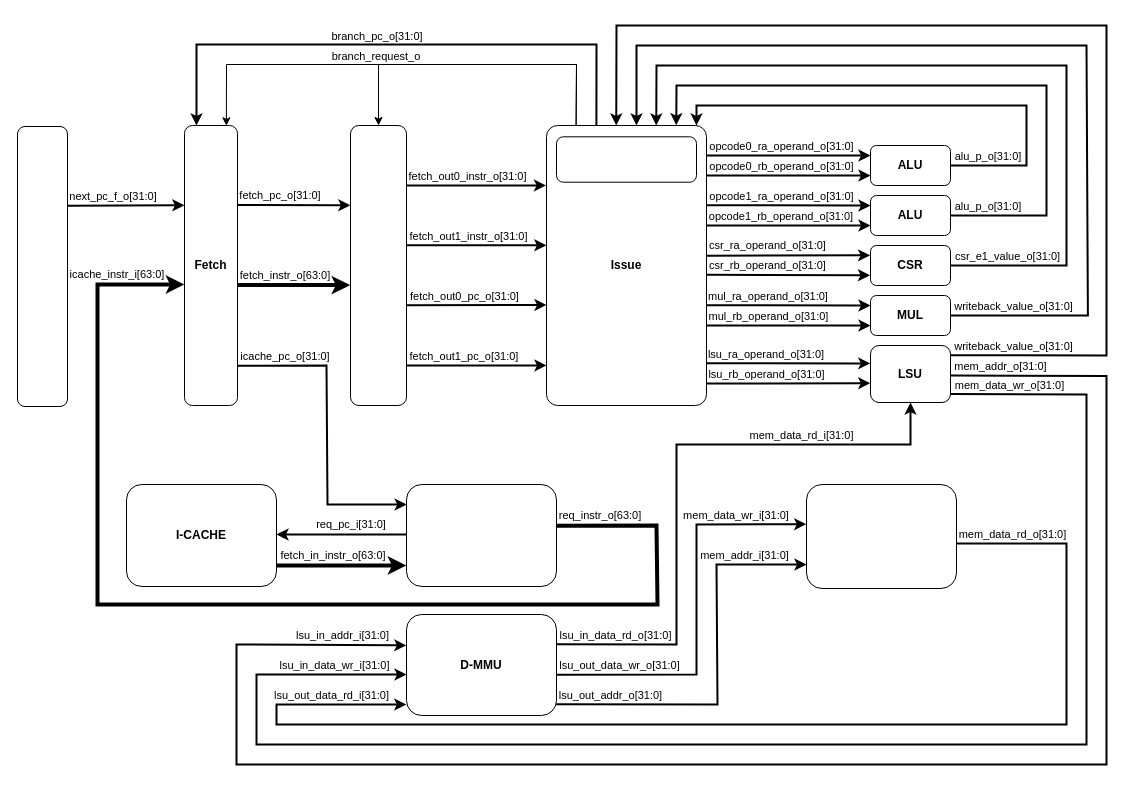
Some shapes in this 1133 by 790 pixel diagram are drawn without their labels. The shapes that lost their labels are listed below. From the top down, each one's centre as x and y in pixels, then its label:
At [626,159]: "Bypass Network".
At [42,266]: "BPU".
At [378,265]: "Decode".
At [481,535]: "I-MMU".
At [881,536]: "D-CACHE".
